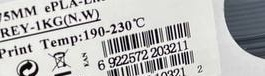1d: (100, 21, 191, 56)
